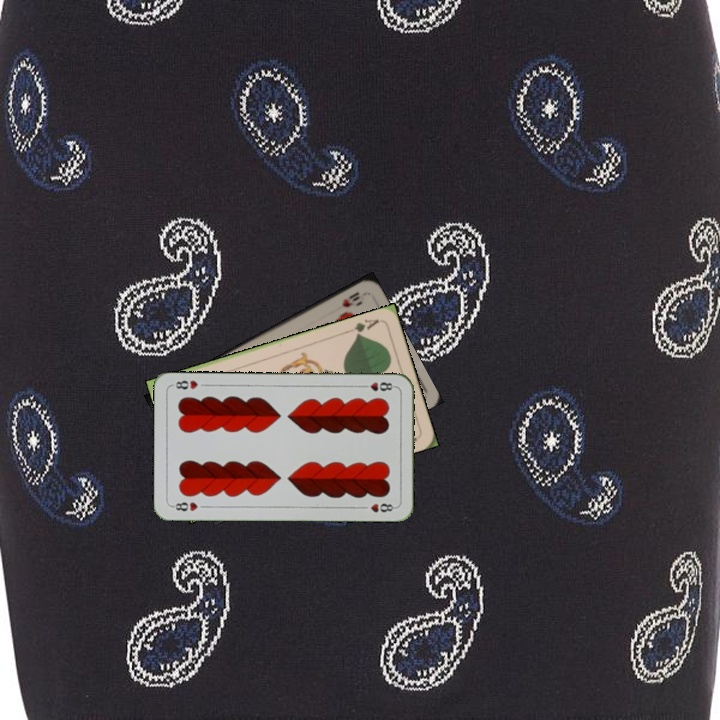GA: (343, 315, 381, 339)
H10: (338, 288, 363, 310)
H8: (357, 378, 398, 393), (168, 498, 200, 513)
